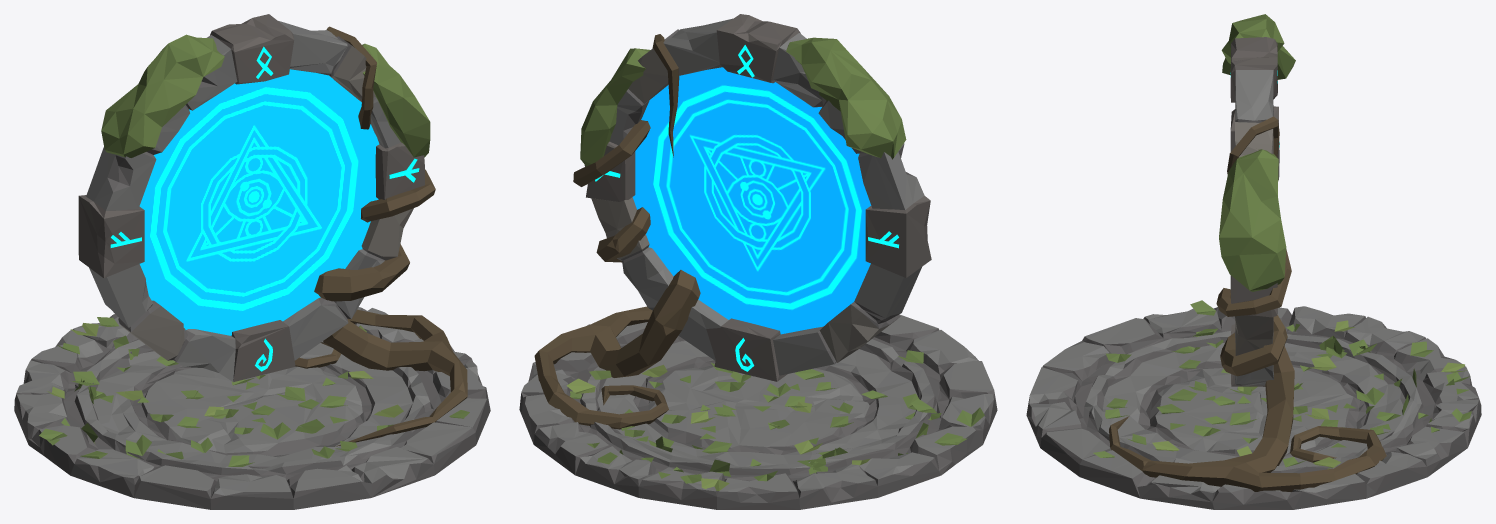
The model's file is Portal_01.fbx.
3 views of the same model, side by side, from view 1: azimuth 30°, elevation 25°; view 2: azimuth 150°, elevation 25°; view 3: azimuth 270°, elevation 25° (orthographic). The views are drawn at different scales.
Visible parts, largest first — view 1: Portal_01, Portal_01_Hole; view 2: Portal_01, Portal_01_Hole; view 3: Portal_01.
Boxes of the visible parts, x1,y1,x2,y2 form: Portal_01: (14, 14, 490, 509); Portal_01_Hole: (139, 69, 379, 335); Portal_01: (519, 14, 997, 509); Portal_01_Hole: (632, 67, 871, 334); Portal_01: (1026, 14, 1481, 509).
Bounding box in the file's own units: 2.58 × 2.33 × 2.59.
